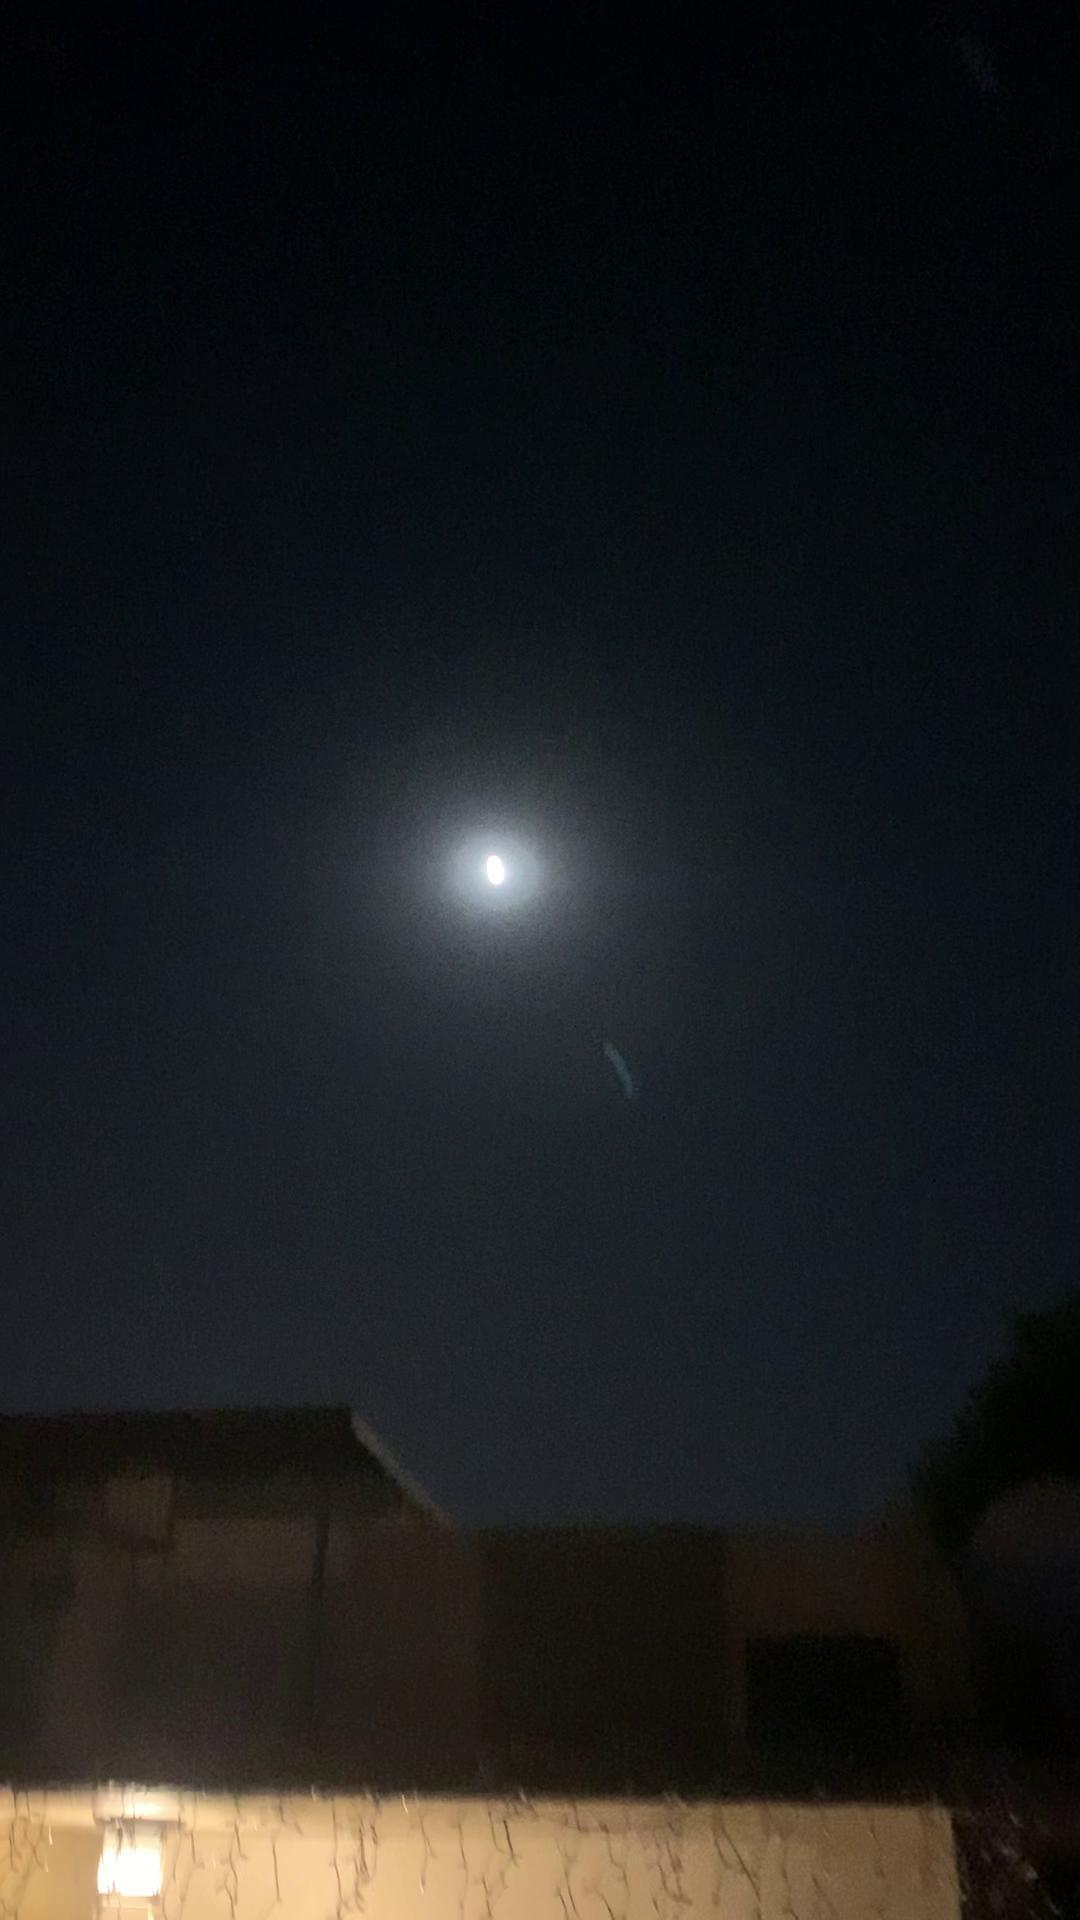moon: (462, 825, 549, 905)
